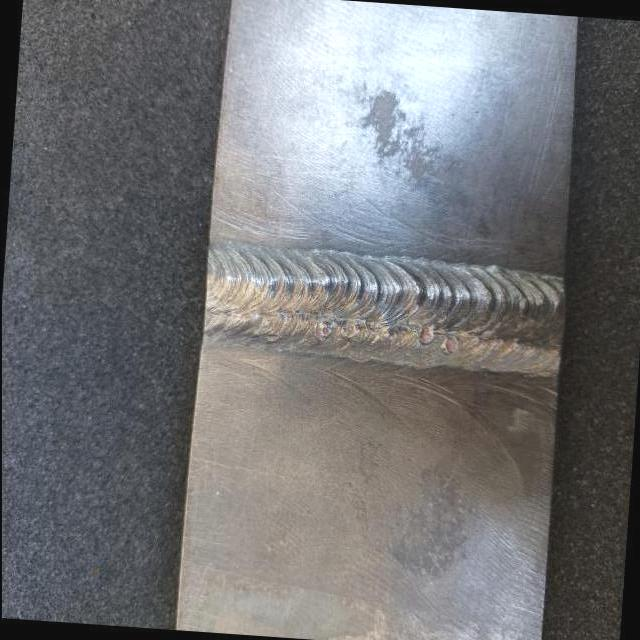defect: (339, 317, 356, 343), (315, 319, 332, 344), (442, 333, 459, 356), (417, 325, 434, 346), (385, 330, 394, 342)
